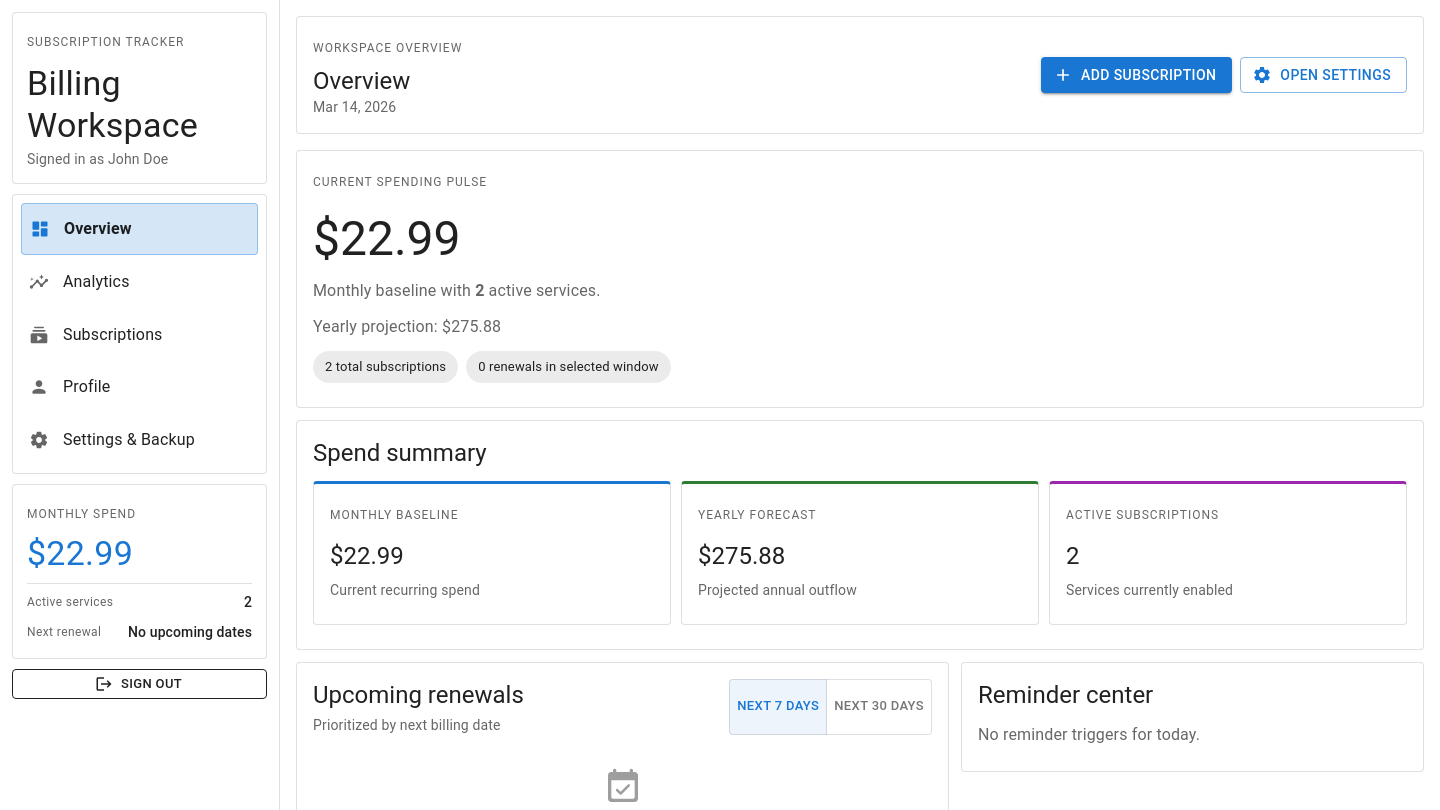
it: App auth and profile flows › renders analytics dashboard from the analytics tab for signed-in users
Click the button "Analytics": coordinates (79, 282) x1=29 y1=272 x2=130 y2=292
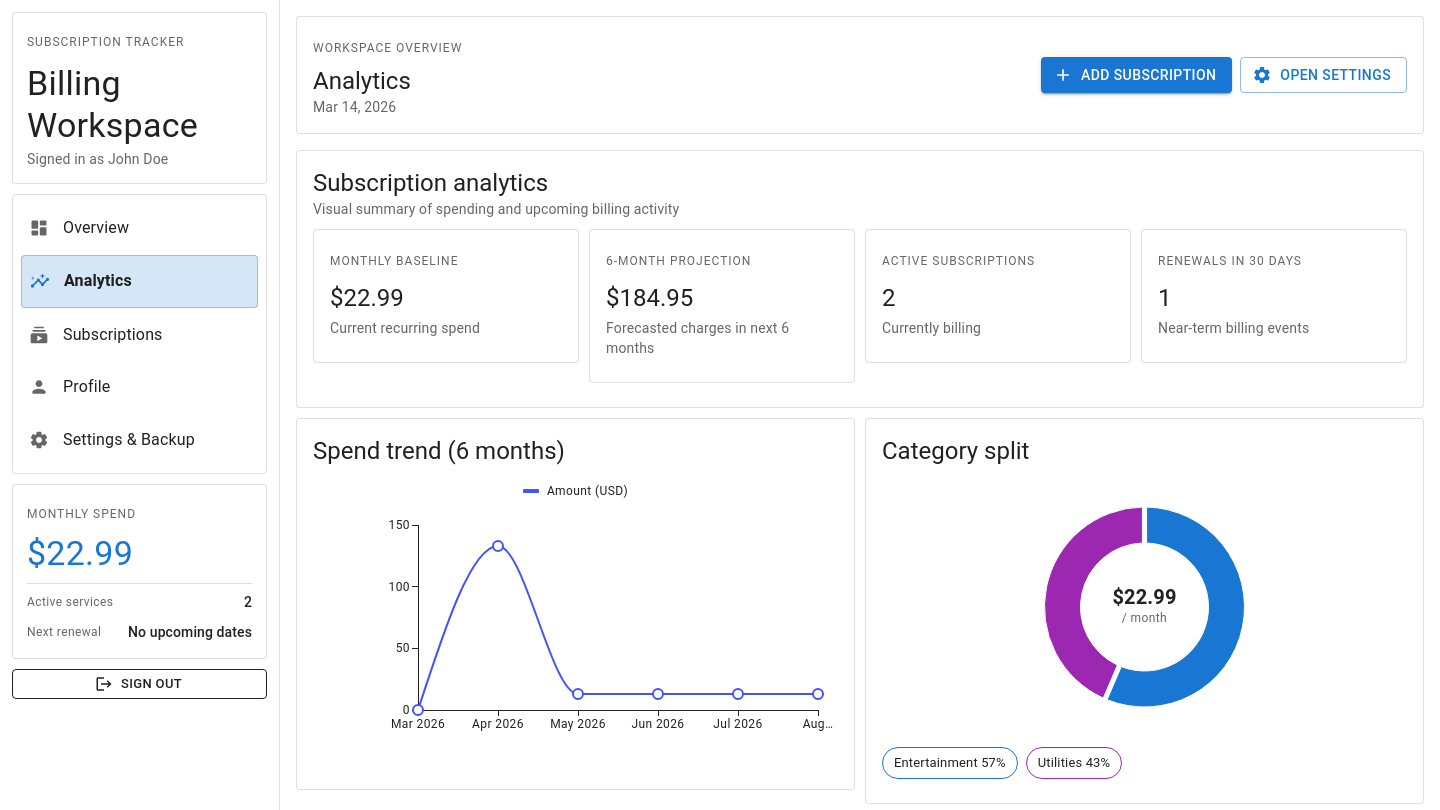
Now the heading "Subscription analytics" is shown, box x1=313 y1=169 x2=548 y2=197
Now the heading "Spend trend (6 months)" is shown, box x1=313 y1=437 x2=565 y2=465
Now the heading "Category split" is shown, box x1=882 y1=437 x2=1030 y2=465
